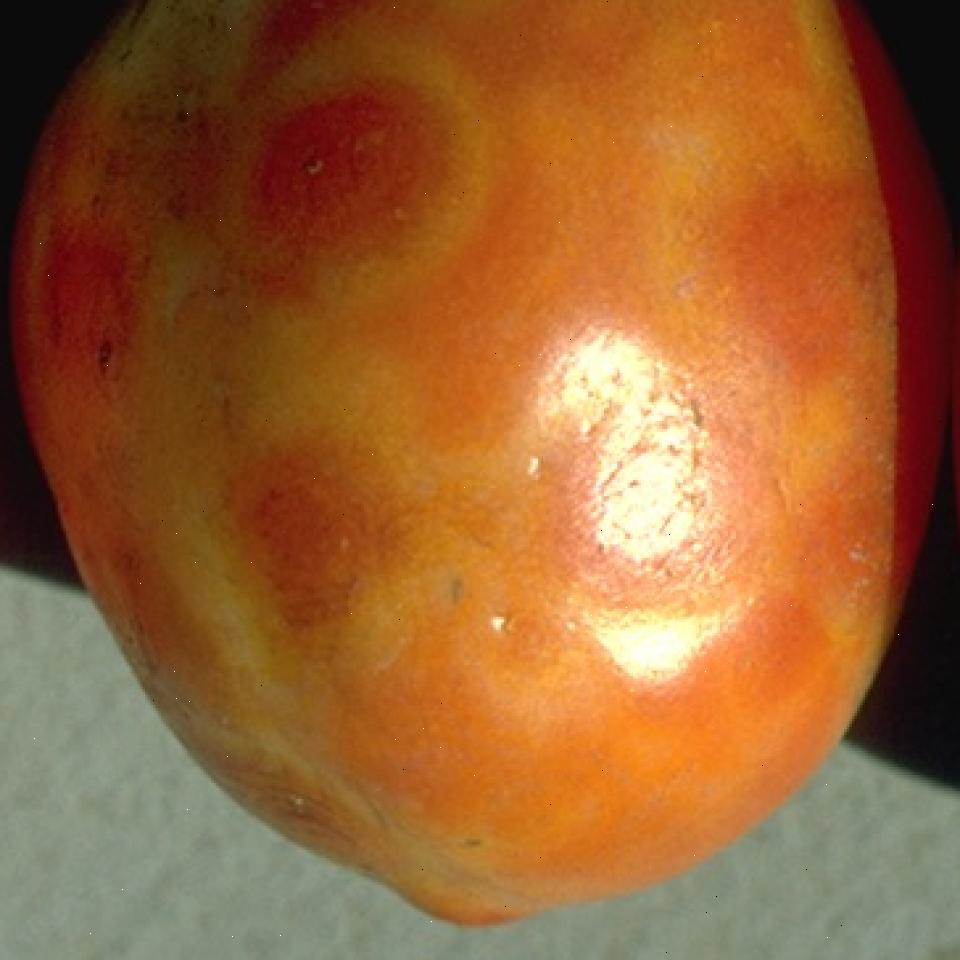Spotted wilt Virus: (13, 0, 944, 936)
